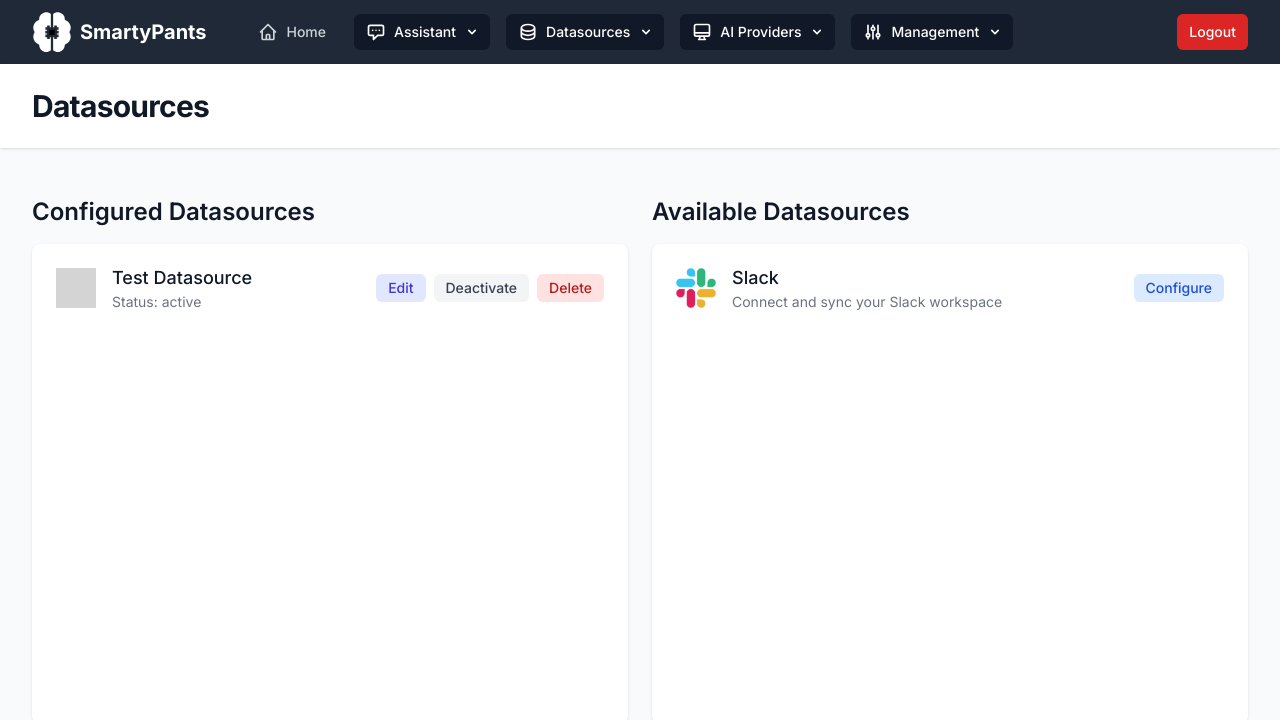
Scenario: DatasourcesPage › handles delete datasource
Expected: the heading "Test Datasource" is shown, [112, 264, 252, 292]
Click the button "Delete" at {"x": 571, "y": 288}, box [537, 274, 604, 302]
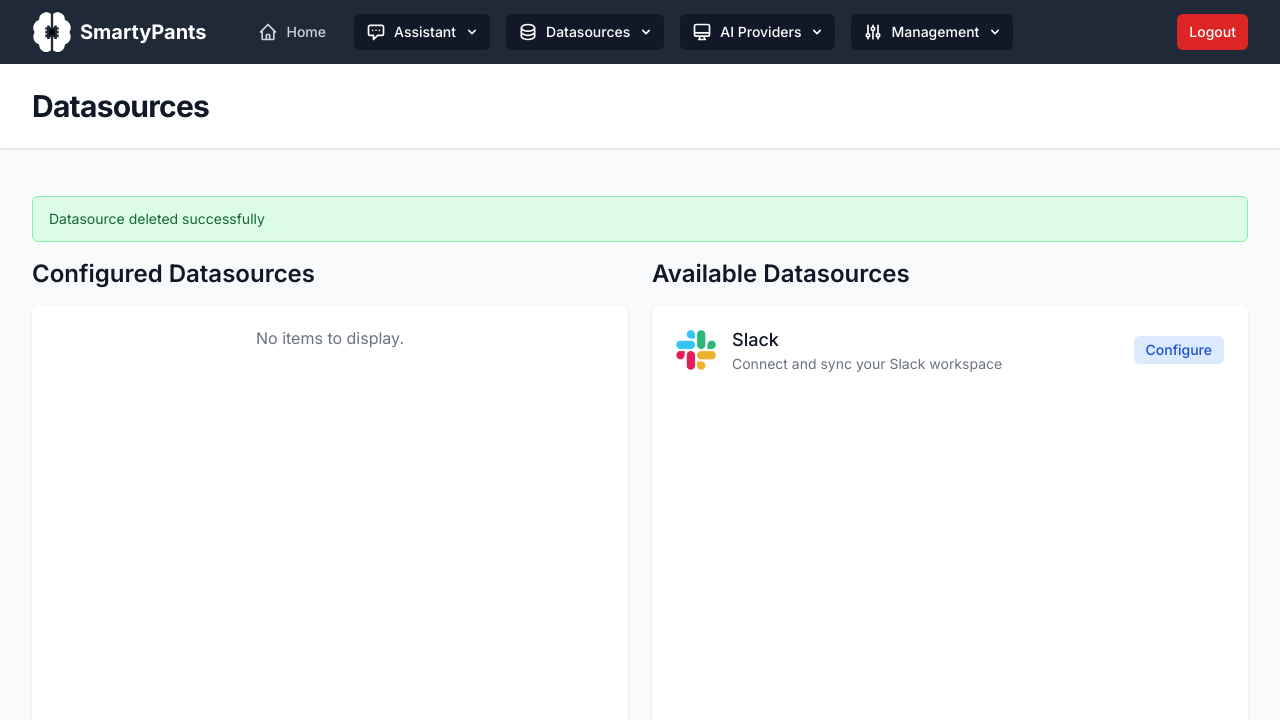
Expected: the text "Datasource deleted successfully" is shown, [49, 210, 265, 227]
